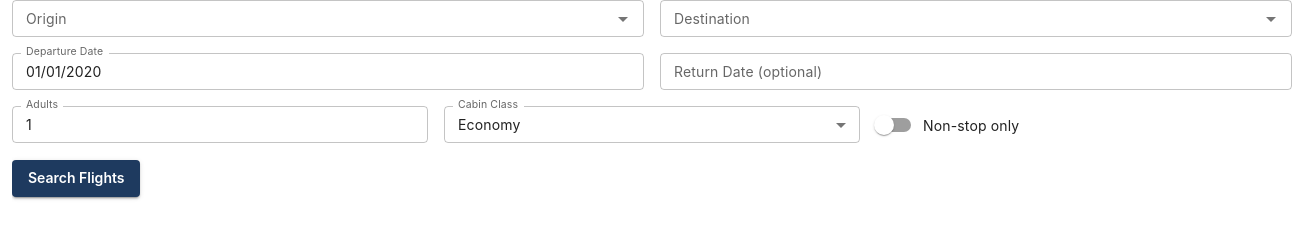
Test: SearchForm › REQ-SEARCH-FORM-S05: rejects past departure date
The image size is (1292, 241).
Click the button "Search Flights" at (76, 179), box [12,160,140,197]
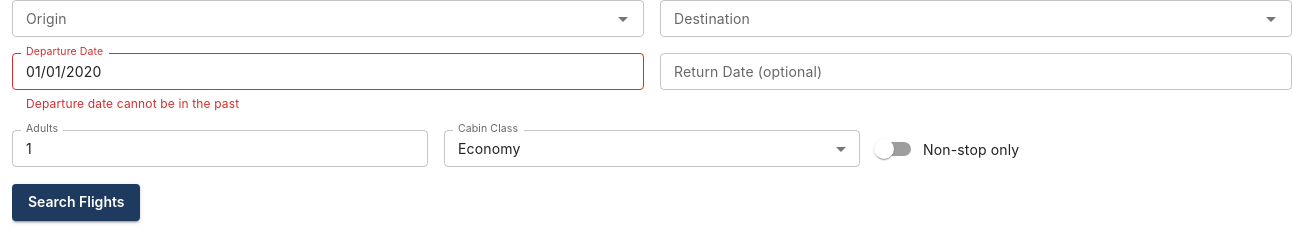
Now the text "Departure date cannot be in the past" is shown, box [26,96,239,111]
